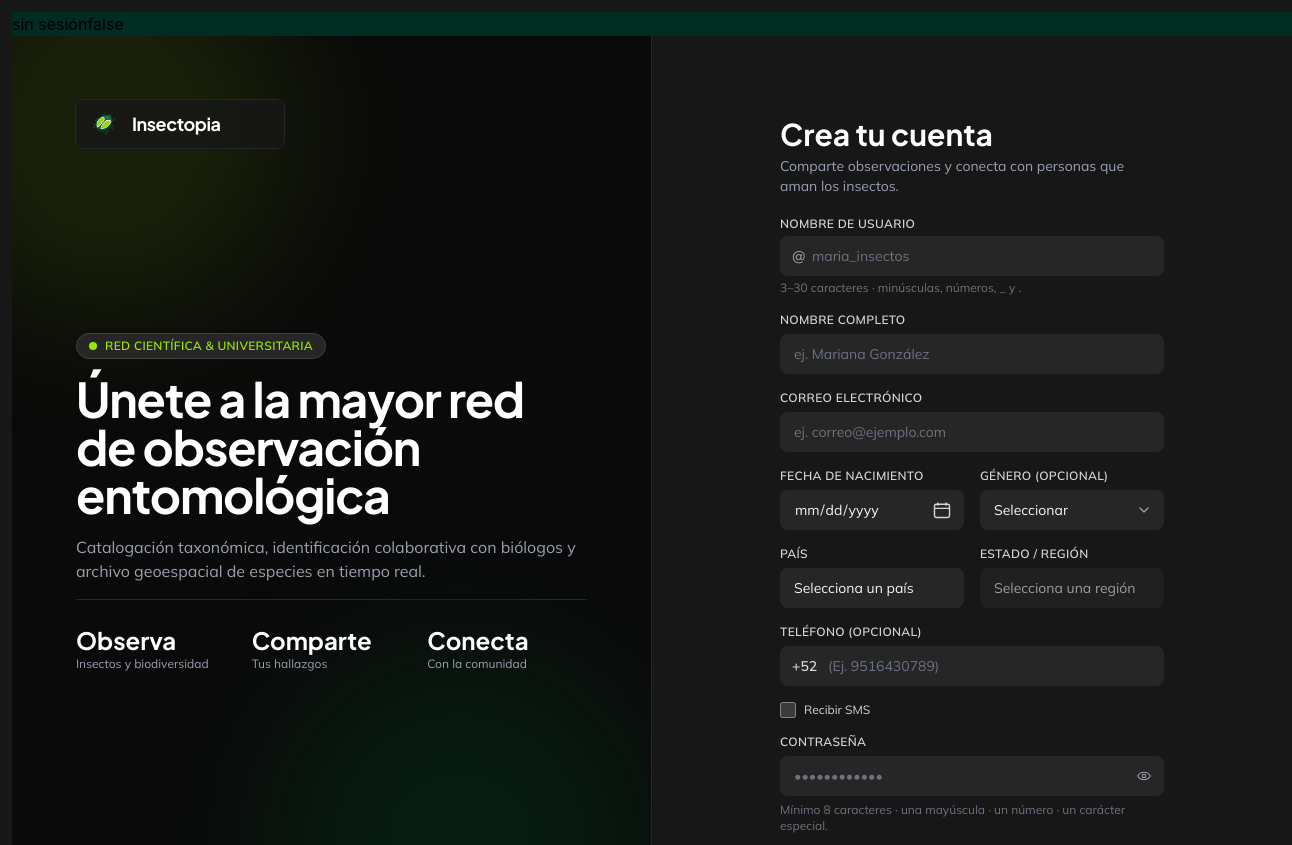
Test: pantalla de registro › la región depende del país y se limpia al cambiar de país
Expected: the dropdown labelled "Estado / Región" is disabled, [980, 568, 1164, 608]
Select "México" in the dropdown labelled "País" at (872, 588), box [780, 568, 964, 608]
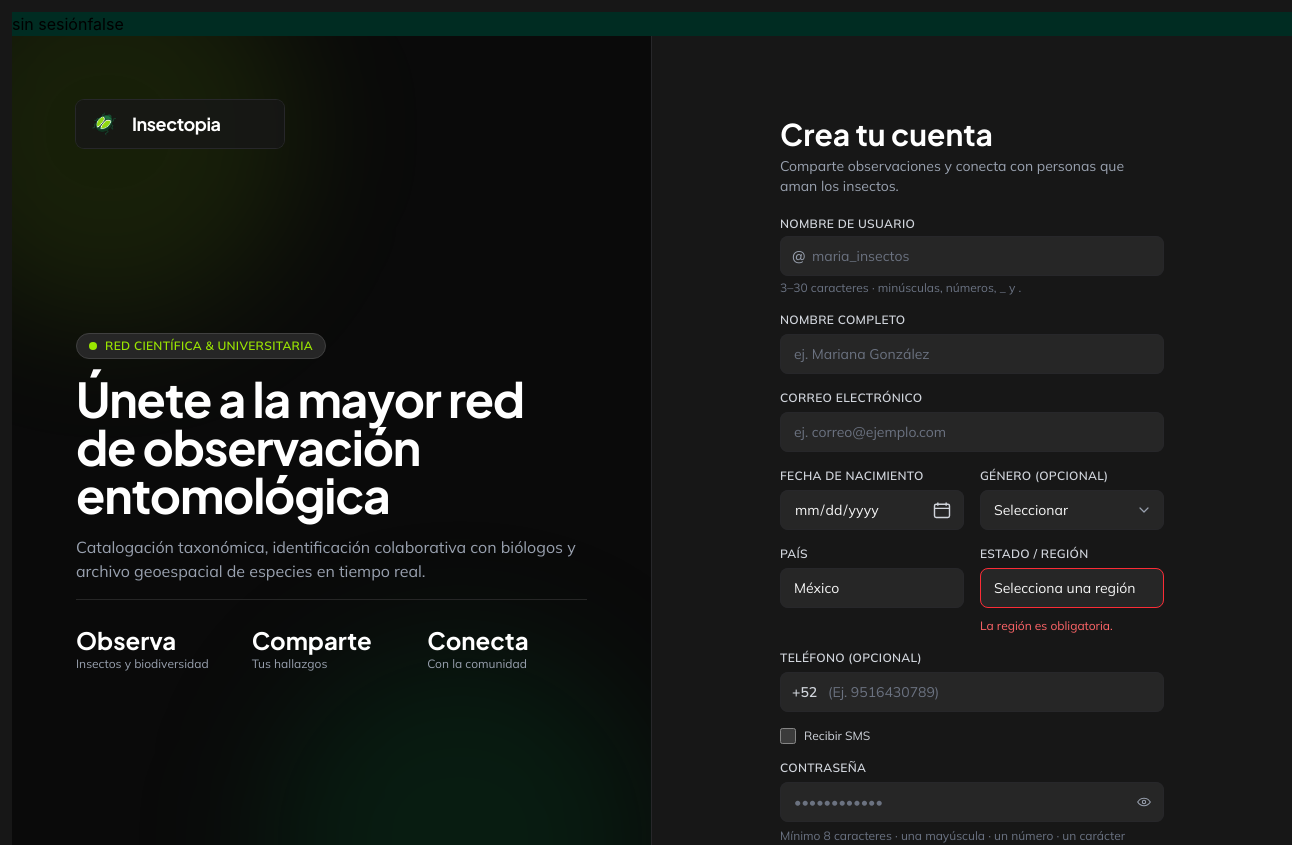
Result: the dropdown labelled "Estado / Región" is enabled
Select "Oaxaca" in the dropdown labelled "Estado / Región" at (1072, 588), box [980, 568, 1164, 608]
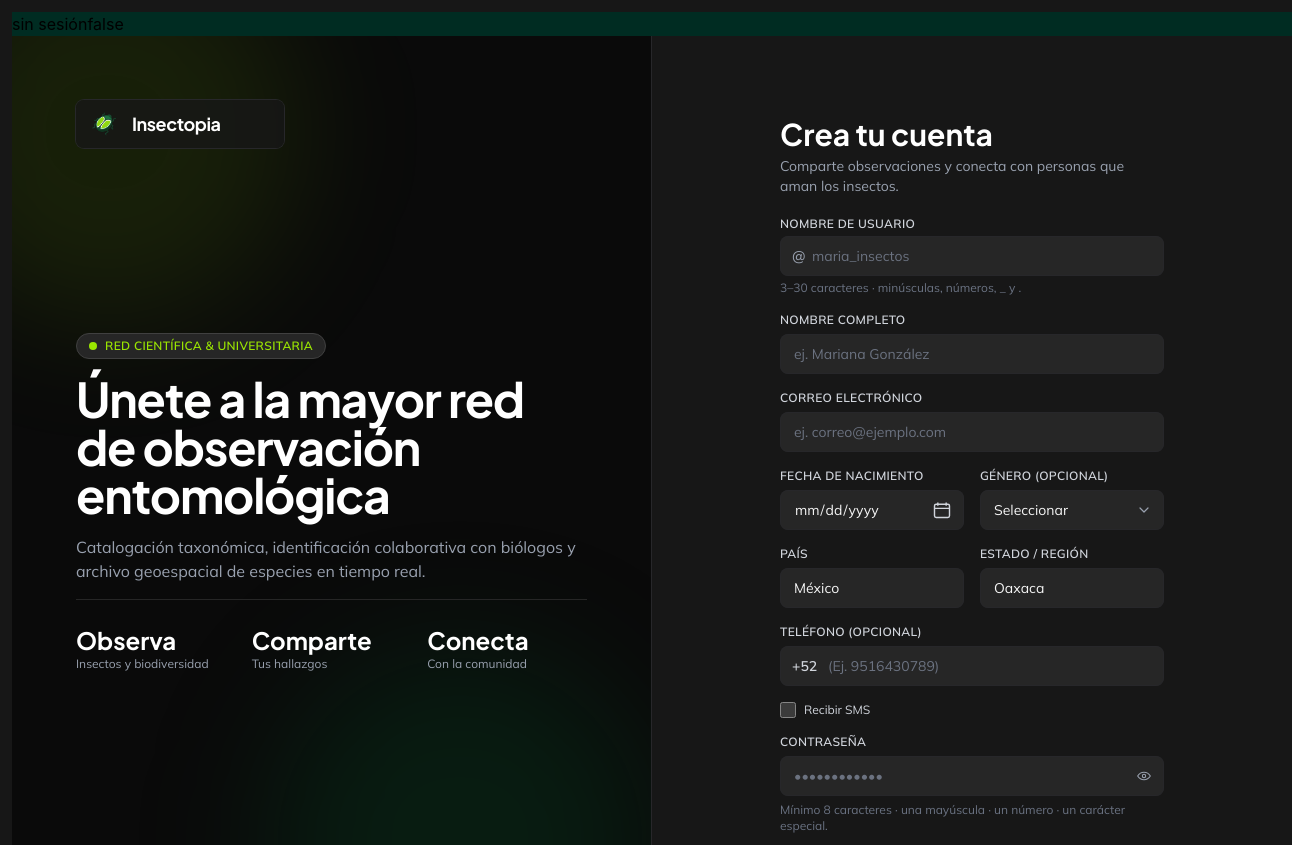
Select "Selecciona un país" in the dropdown labelled "País" at (872, 588), box [780, 568, 964, 608]
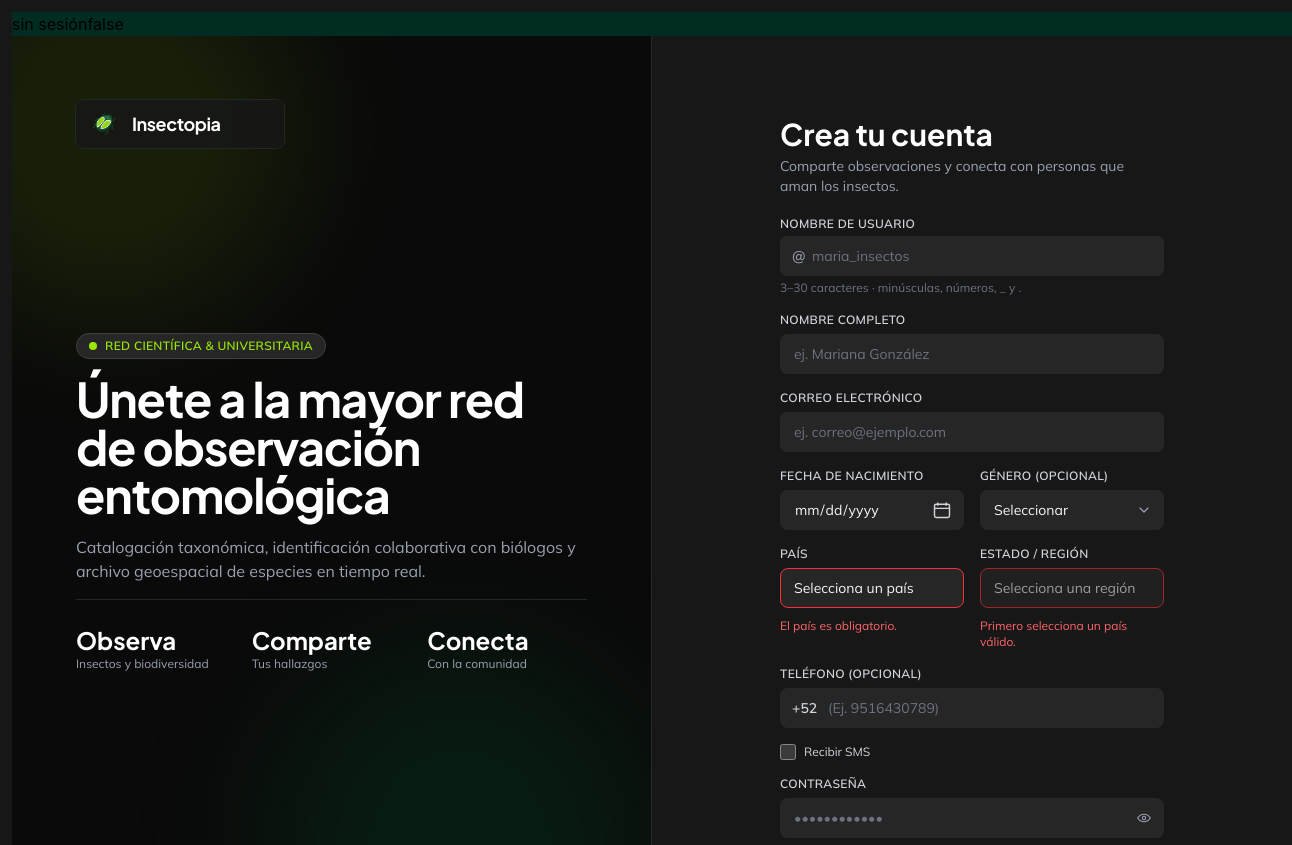
Result: the dropdown labelled "Estado / Región" is disabled at [980, 568, 1164, 608]
Result: the text "Primero selecciona un país válido." is shown at [980, 618, 1127, 649]
